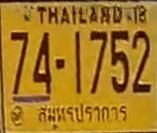1: (74, 31, 80, 95)
2: (132, 31, 150, 93)
4: (32, 31, 51, 92)
5: (110, 30, 128, 92)
7: (10, 32, 29, 96), (90, 30, 108, 94)
SPK: (36, 101, 129, 131)
